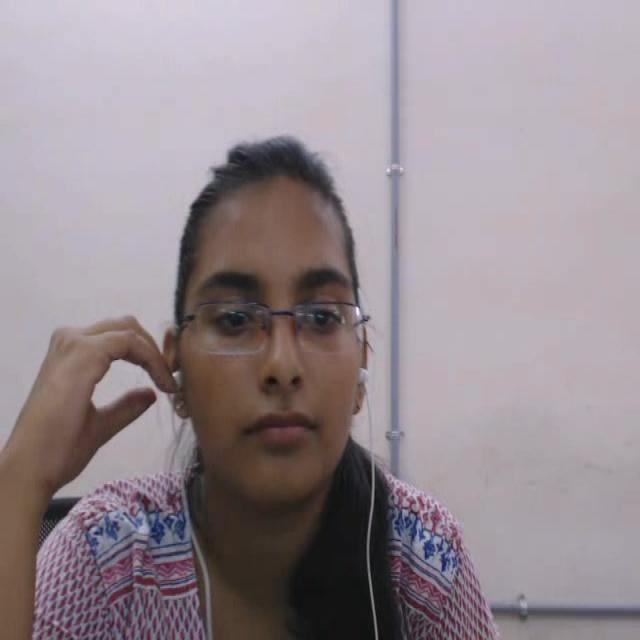Bored: (159, 99, 418, 606)
